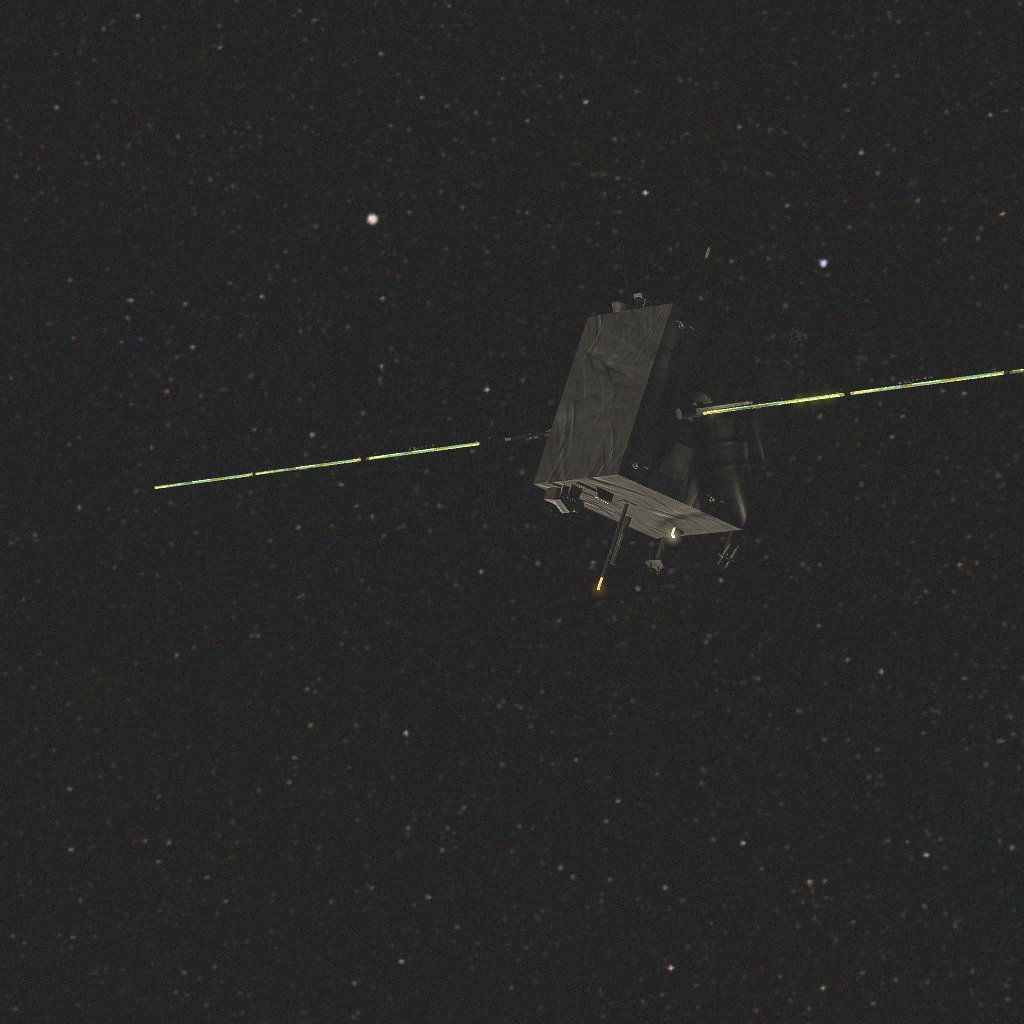smart_1: (155, 248, 1024, 590)
